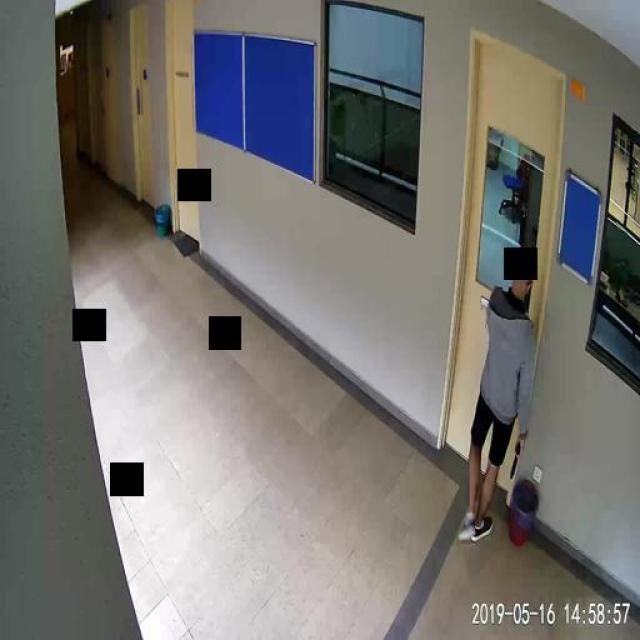gun: (508, 435, 522, 477)
